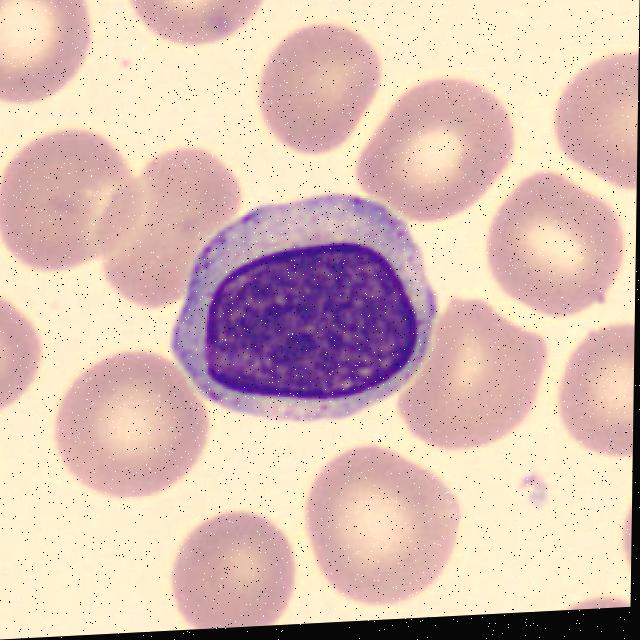lymphocyte: (166, 188, 433, 423)
rbc: (90, 151, 239, 306), (358, 79, 514, 222), (311, 456, 457, 601), (68, 353, 210, 495), (0, 132, 149, 265), (408, 310, 545, 444), (499, 181, 619, 313), (264, 22, 377, 146), (176, 513, 294, 630), (553, 53, 638, 185), (560, 324, 634, 453), (0, 0, 90, 105), (113, 0, 270, 45), (0, 296, 35, 412), (555, 599, 631, 611), (622, 493, 632, 574)
